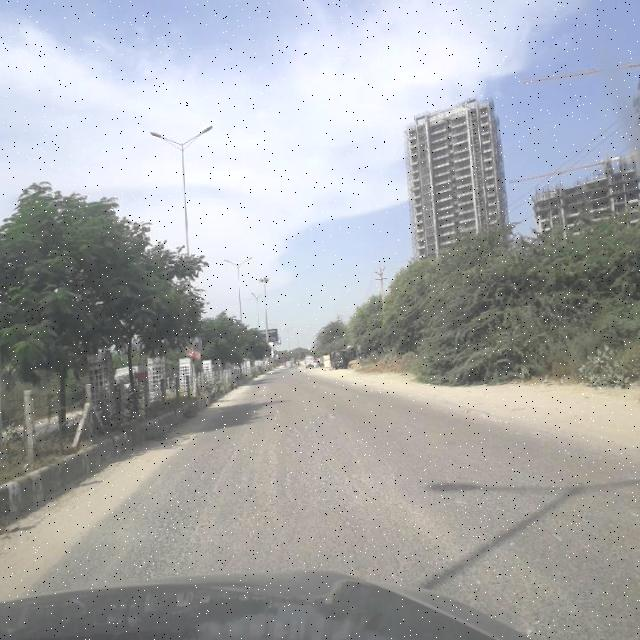D00: (178, 396, 256, 564)
D20: (38, 419, 640, 582)
